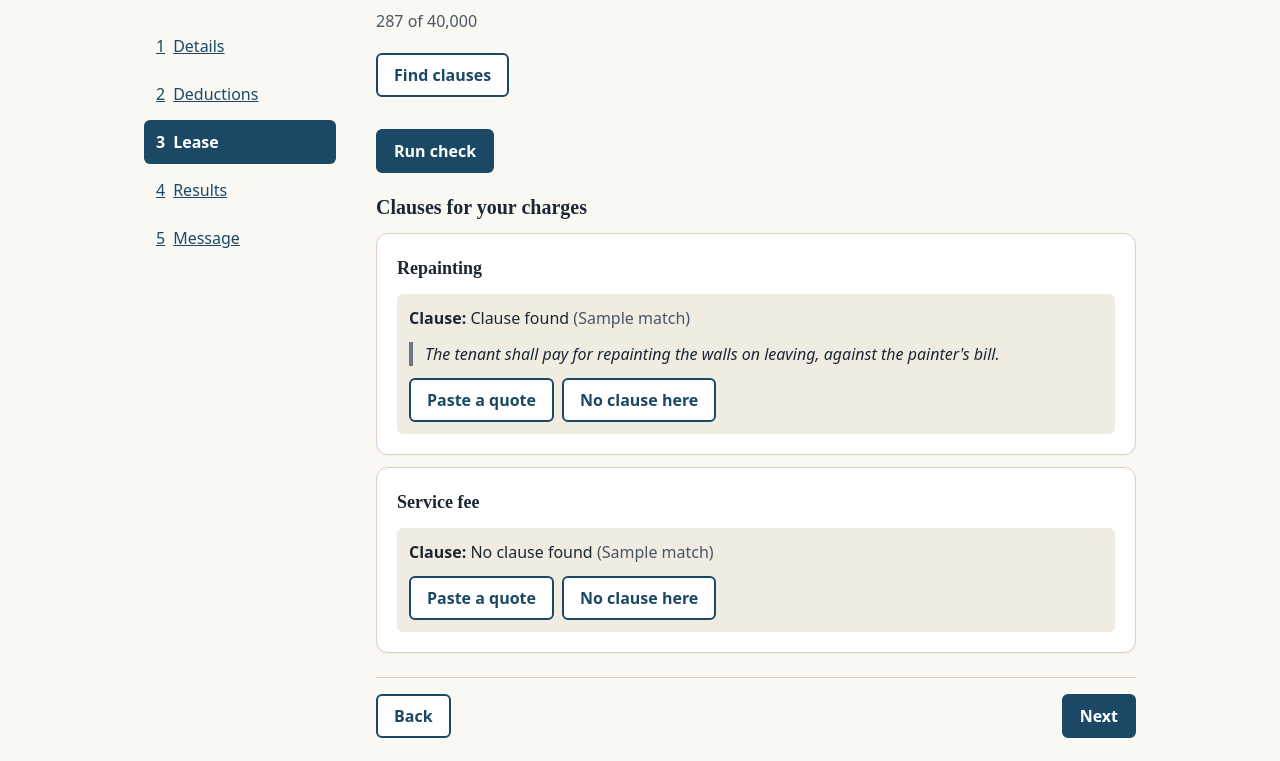
Test case: Lease step › T-165 No clause here sets none, and Remove override returns the item to not confirmed
This screenshot has width=1280, height=761.
(page scrolled)
Click the button with aria-label "No clause here for Repainting" at (639, 400), box x1=562 y1=378 x2=716 y2=422
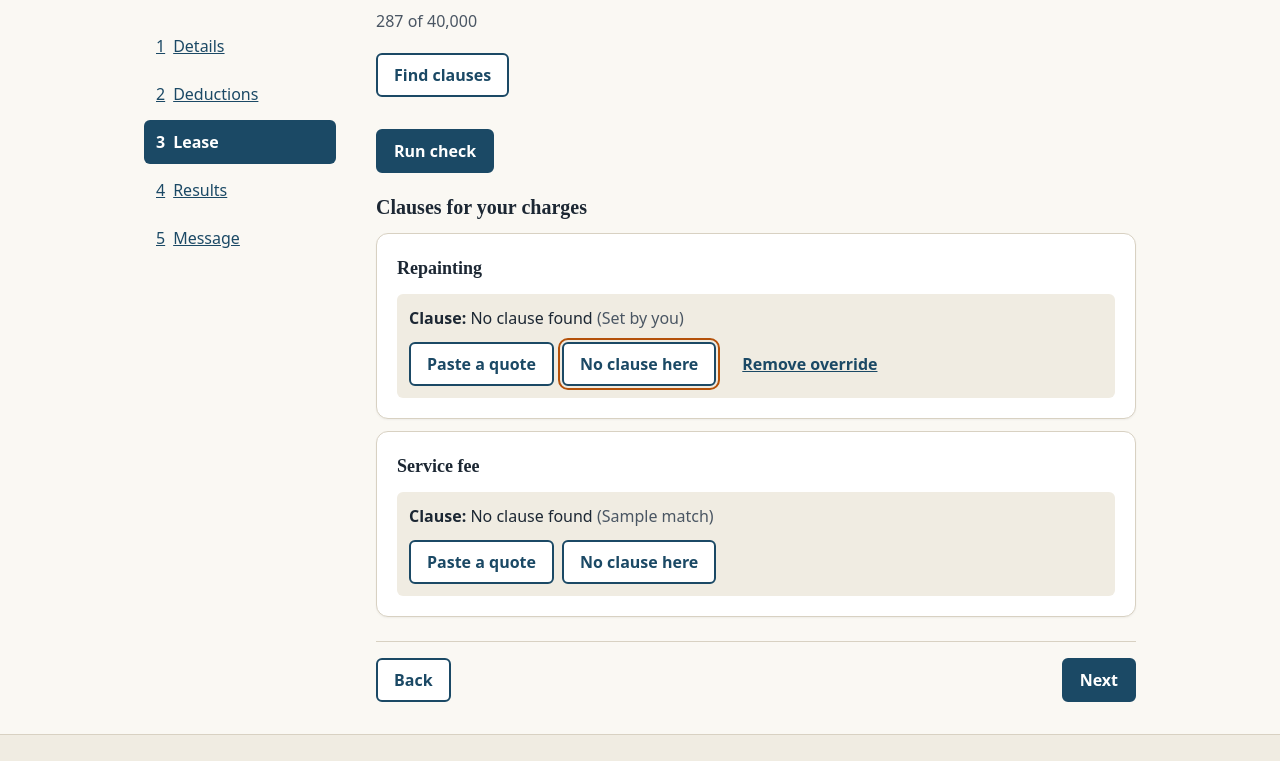
Now the text "Clause: No clause found (Set by you)" is shown, box x1=409 y1=307 x2=684 y2=329
Now the text "(Set by you)" is shown, box x1=593 y1=307 x2=684 y2=329
Click the button with aria-label "Remove override for Repainting" at (810, 364), box x1=724 y1=342 x2=896 y2=386
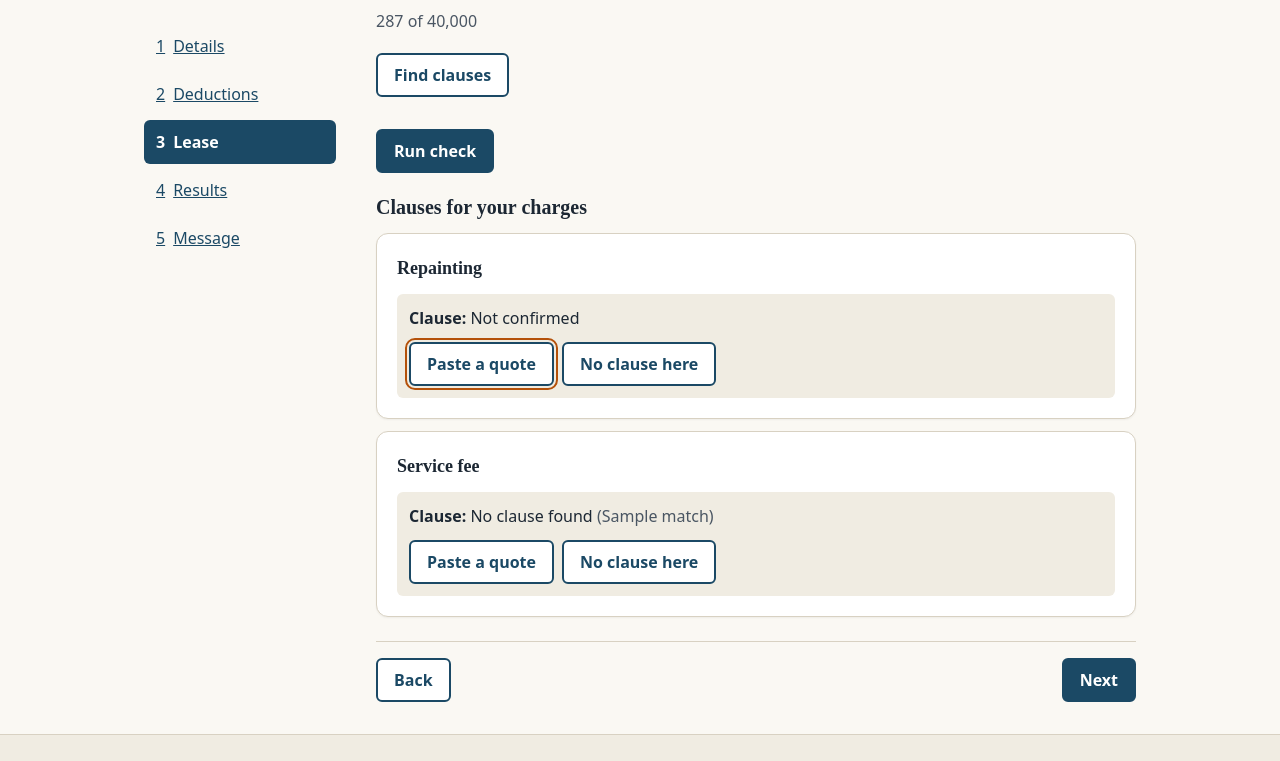
Now the text "Clause: Not confirmed" is shown, box x1=409 y1=307 x2=580 y2=329
